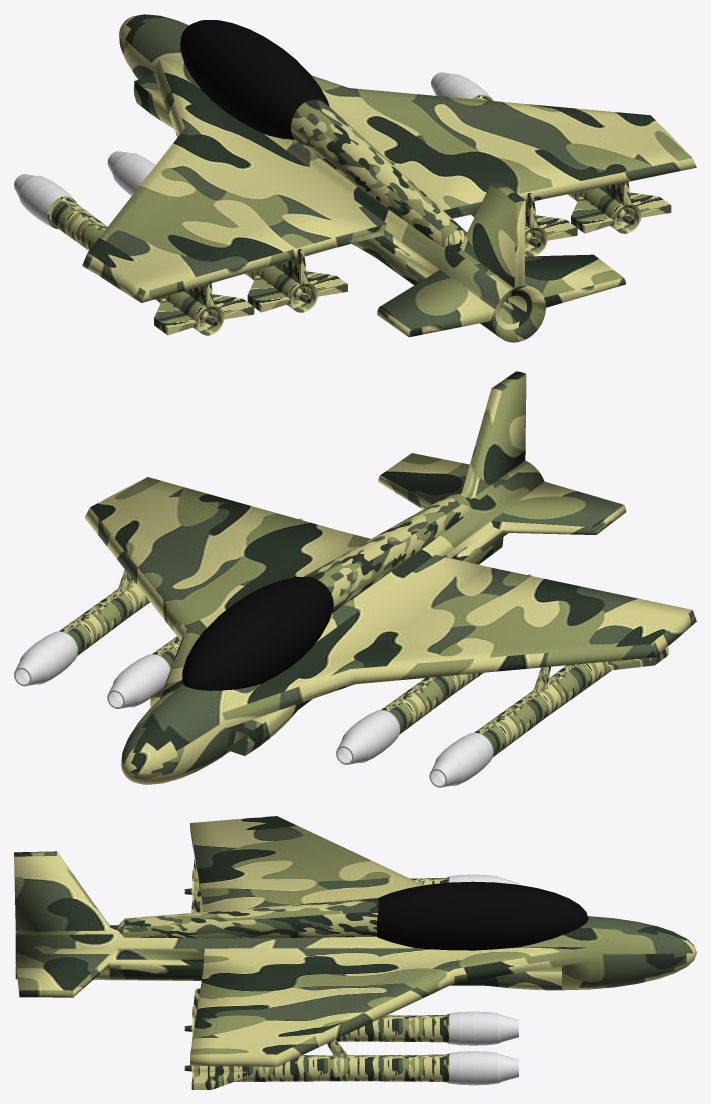
The model's file is fighter-jet.glb.
3 renders of one model, top to bottom at view 1: azimuth 30°, elevation 25°; view 2: azimuth 150°, elevation 25°; view 3: azimuth 270°, elevation 25°, orthographic. The views are drawn at different scales.
Visible parts, largest first — view 1: Jet Body, Cockpit, Fuel tank, Missile Launcher.002, Missile Launcher.003, Missile Launcher.001, Missile Launcher.004; view 2: Jet Body, Cockpit, Missile Launcher.002, Fuel tank, Missile Launcher.001, Missile Launcher.003, Missile Launcher.004; view 3: Jet Body, Cockpit, Missile Launcher.001, Fuel tank, Missile Launcher.004, Missile Launcher.002.
Boxes of the visible parts, x1,y1,x2,y2 form: Jet Body: [82, 14, 696, 342]; Cockpit: [180, 20, 329, 139]; Fuel tank: [291, 99, 466, 247]; Missile Launcher.002: [14, 174, 254, 335]; Missile Launcher.003: [107, 151, 347, 312]; Missile Launcher.001: [431, 72, 671, 233]; Missile Launcher.004: [471, 193, 577, 256]; Jet Body: [84, 371, 696, 784]; Cockpit: [182, 577, 333, 690]; Missile Launcher.002: [429, 647, 668, 787]; Fuel tank: [304, 493, 471, 613]; Missile Launcher.001: [14, 569, 149, 686]; Missile Launcher.003: [336, 574, 531, 764]; Missile Launcher.004: [107, 518, 302, 708]; Jet Body: [14, 816, 696, 1066]; Cockpit: [377, 881, 588, 950]; Missile Launcher.001: [184, 1039, 518, 1089]; Fuel tank: [117, 898, 378, 938]; Missile Launcher.004: [184, 988, 518, 1045]; Missile Launcher.002: [184, 859, 518, 912].
Bounding box in the file's own units: 15.37 × 4.18 × 18.24.
3 materials, 1 textured.
